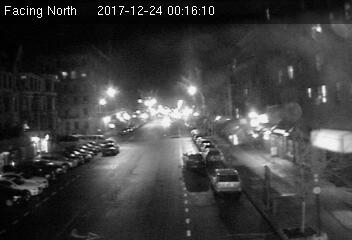car: (210, 167, 242, 197), (183, 151, 204, 168), (100, 140, 119, 155), (205, 148, 223, 162)
